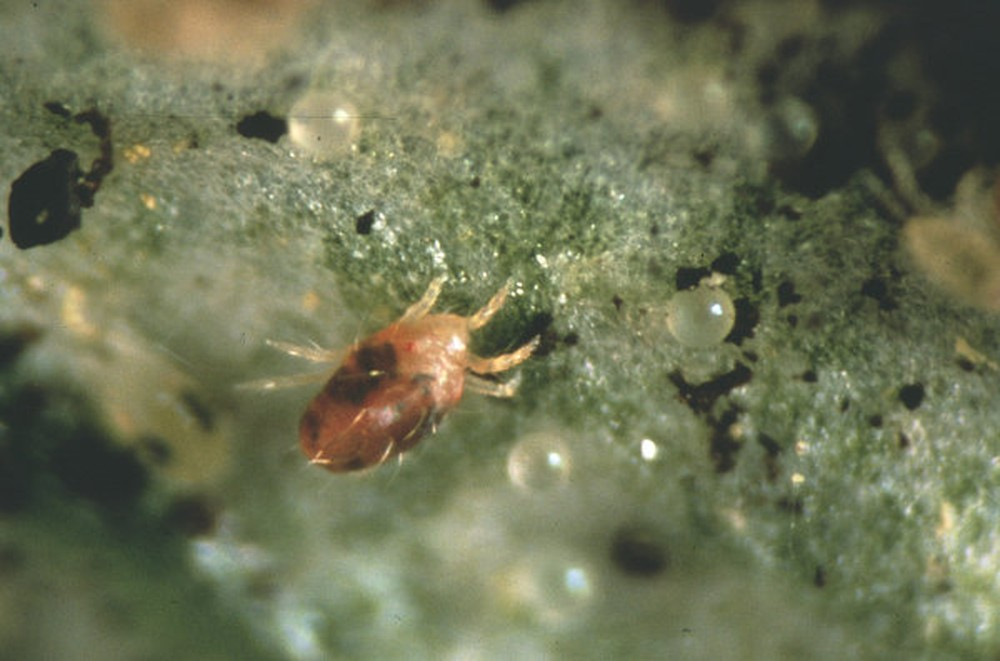Aracnido Rojo: (237, 248, 550, 514)
